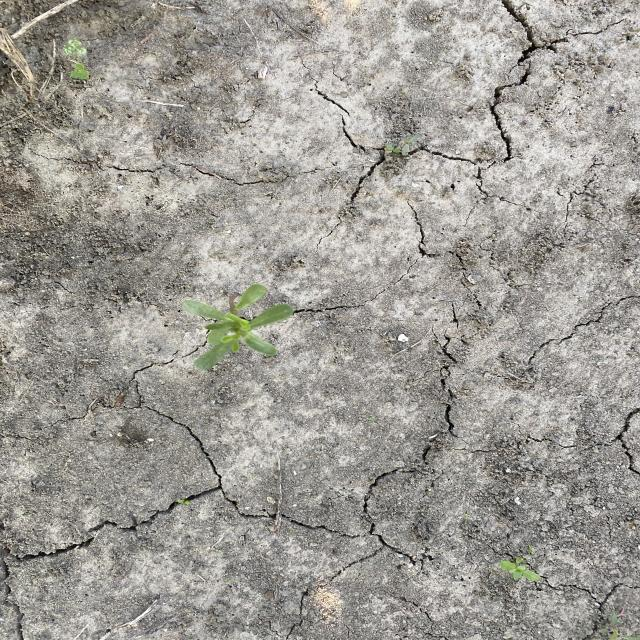Purslane: (180, 282, 296, 373)
